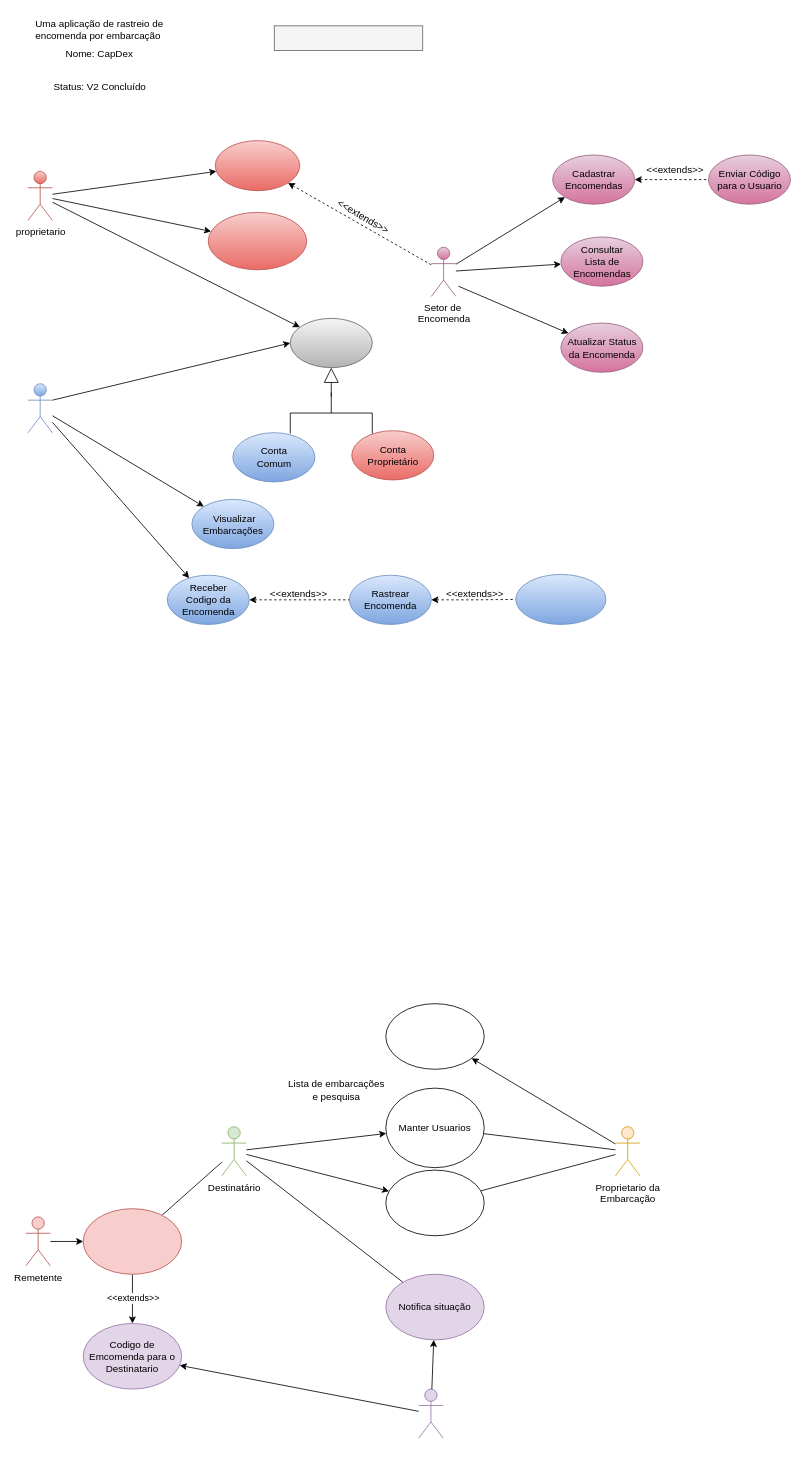
This 805x1469 diagram has some shape labels left out. The shapes that lost their labels are listed below. From the top down, each one's centre as x and y in pixels, then its label:
the point at 348,37: CASO DE USO 001: Geral
the point at 257,165: Cadastrar Embarcação
the point at 257,241: Visualizar Embarcações do Proprietario
the point at 330,343: Criar Conta
the point at 39,408: Usuario
the point at 560,599: Receber Confirmação de Entrega
the point at 434,1036: Manter Cadastro de Embarcação
the point at 434,1202: Rastreia Embarcação da Encomenda
the point at 430,1413: Sistema
